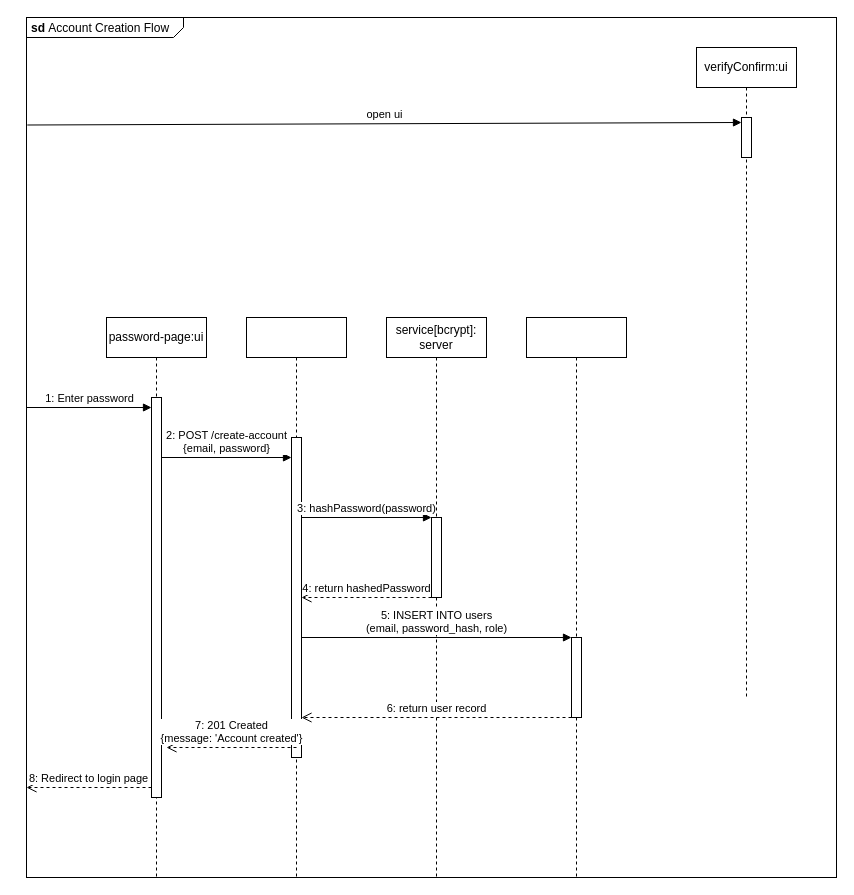
The diagram is 854 pixels wide and 895 high, and some of its shapes have lost their labels. The box of each missing label's shape, as (x1, y1, x2, y2) in pixels:
handler:server: (246, 316, 346, 878)
table[user]: database: (526, 316, 626, 878)
